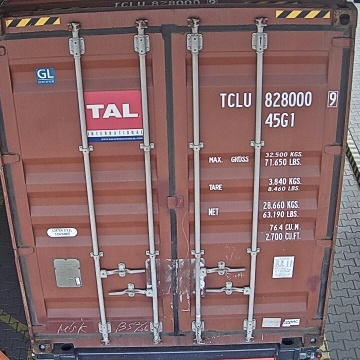serial_id: (220, 91, 338, 107)
